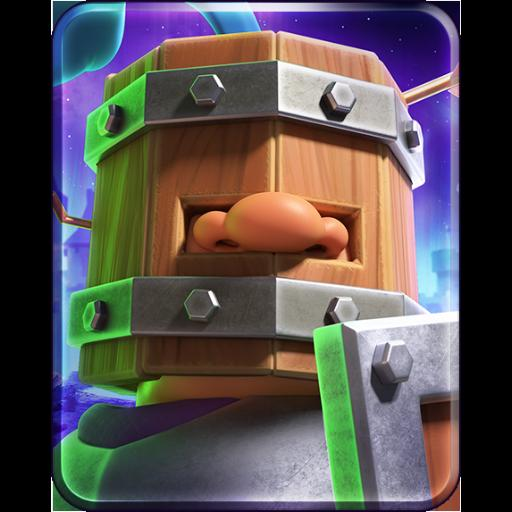royal-recruits-evo: (65, 10, 449, 502)
